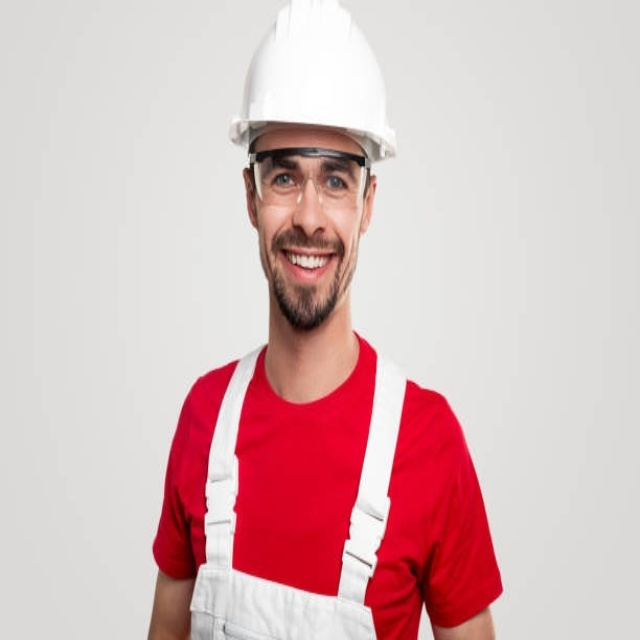Gafas: (251, 152, 370, 210)
Sin_mascara: (271, 234, 338, 300)
